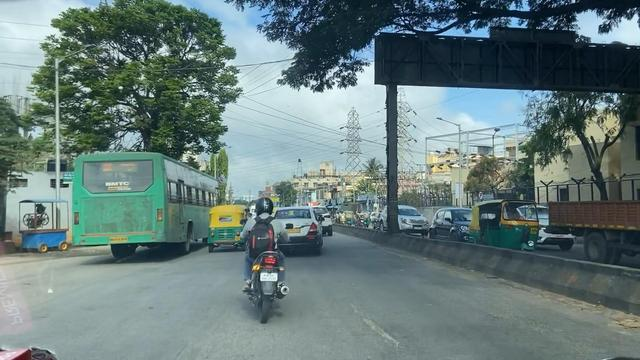HMV: (74, 154, 205, 250)
LMV: (252, 197, 287, 316), (211, 203, 244, 248)
RoadDamages: (347, 298, 400, 354)
